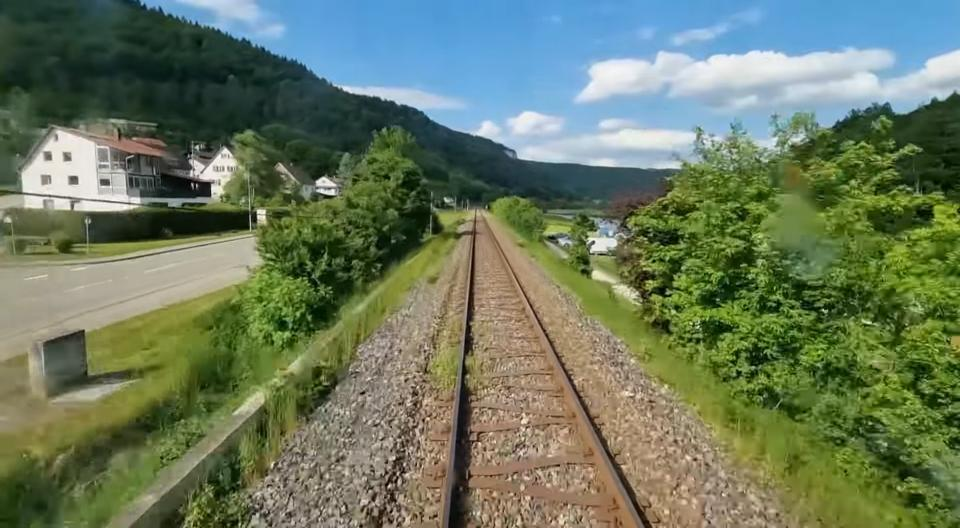Plant: (238, 232, 456, 484), (181, 454, 250, 528), (428, 321, 460, 394), (464, 351, 485, 391)
